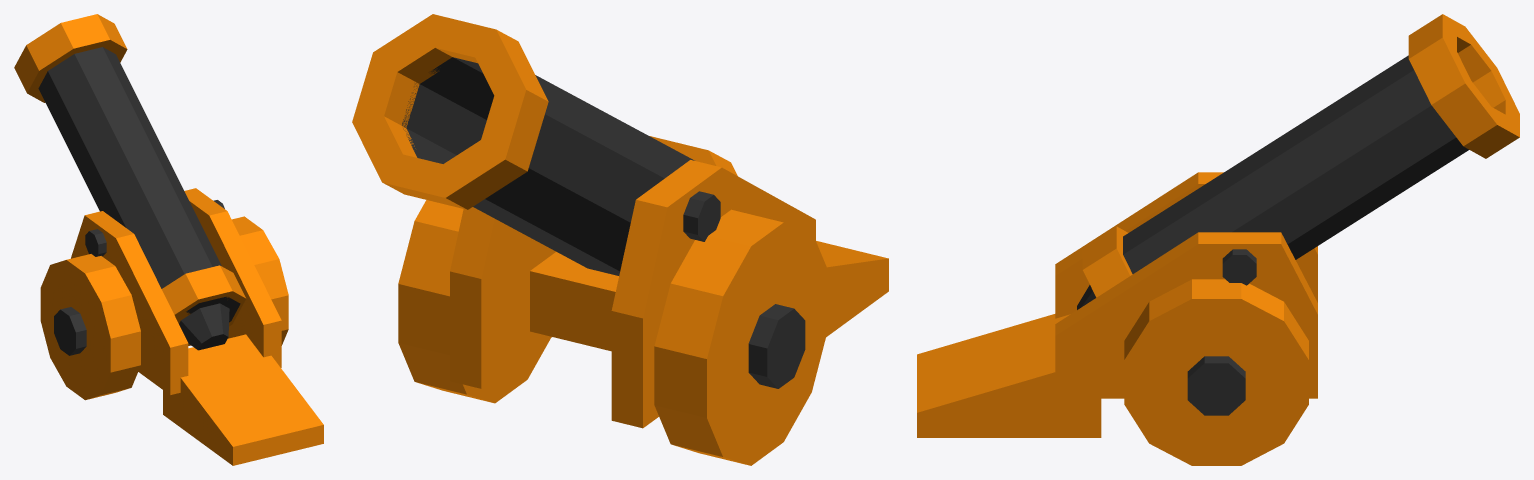
Rendered from LobbyCannon.fbx.
The picture shows the model from 3 angles, left to right: view 1: azimuth 30°, elevation 25°; view 2: azimuth 150°, elevation 25°; view 3: azimuth 270°, elevation 25°; orthographic projection. The views are drawn at different scales.
Parts seen in each view (by area): view 1: LobbyCannon_Carriage, LobbyCannon_Barrel, LobbyCannon_Wheels, LobbyCannon_Bands, LobbyCannon_Hubs; view 2: LobbyCannon_Wheels, LobbyCannon_Carriage, LobbyCannon_Barrel, LobbyCannon_Bands, LobbyCannon_Hubs; view 3: LobbyCannon_Carriage, LobbyCannon_Barrel, LobbyCannon_Wheels, LobbyCannon_Bands, LobbyCannon_Hubs.
Boxes of the visible parts, <box> form: LobbyCannon_Carriage: <box>71,188,323,465</box>; LobbyCannon_Barrel: <box>38,47,240,350</box>; LobbyCannon_Wheels: <box>40,216,288,400</box>; LobbyCannon_Bands: <box>14,14,246,345</box>; LobbyCannon_Hubs: <box>54,200,224,355</box>; LobbyCannon_Wheels: <box>398,200,827,465</box>; LobbyCannon_Carriage: <box>450,160,888,428</box>; LobbyCannon_Barrel: <box>402,57,694,275</box>; LobbyCannon_Bands: <box>352,14,737,209</box>; LobbyCannon_Hubs: <box>683,191,805,388</box>; LobbyCannon_Carriage: <box>917,172,1317,437</box>; LobbyCannon_Barrel: <box>1077,55,1468,309</box>; LobbyCannon_Wheels: <box>1124,279,1308,465</box>; LobbyCannon_Bands: <box>1082,14,1519,297</box>; LobbyCannon_Hubs: <box>1187,249,1256,415</box>.
Bounding box in the file's own units: 13.86 × 19.25 × 27.47.
